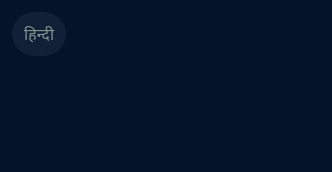
it: LanguageToggle › switches EN to HI and back, changing the real locale
Later steps or results of the test are not shown.
Step 1. Click the button → (39, 34), box [12,12,66,56]
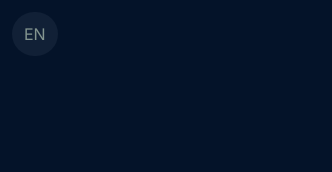
Check: the button reads "EN", box [12,12,58,56]
